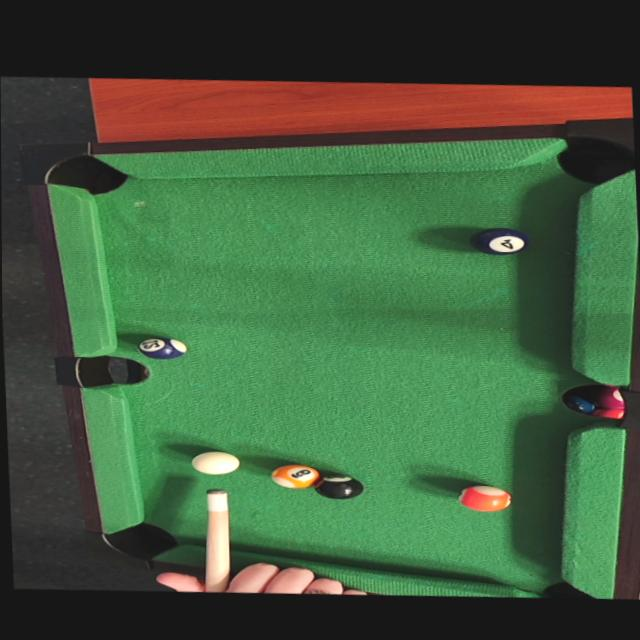cue ball: (183, 445, 242, 478)
other: (465, 220, 536, 260), (452, 479, 516, 514), (265, 458, 324, 493), (309, 468, 366, 502), (134, 331, 190, 362)
